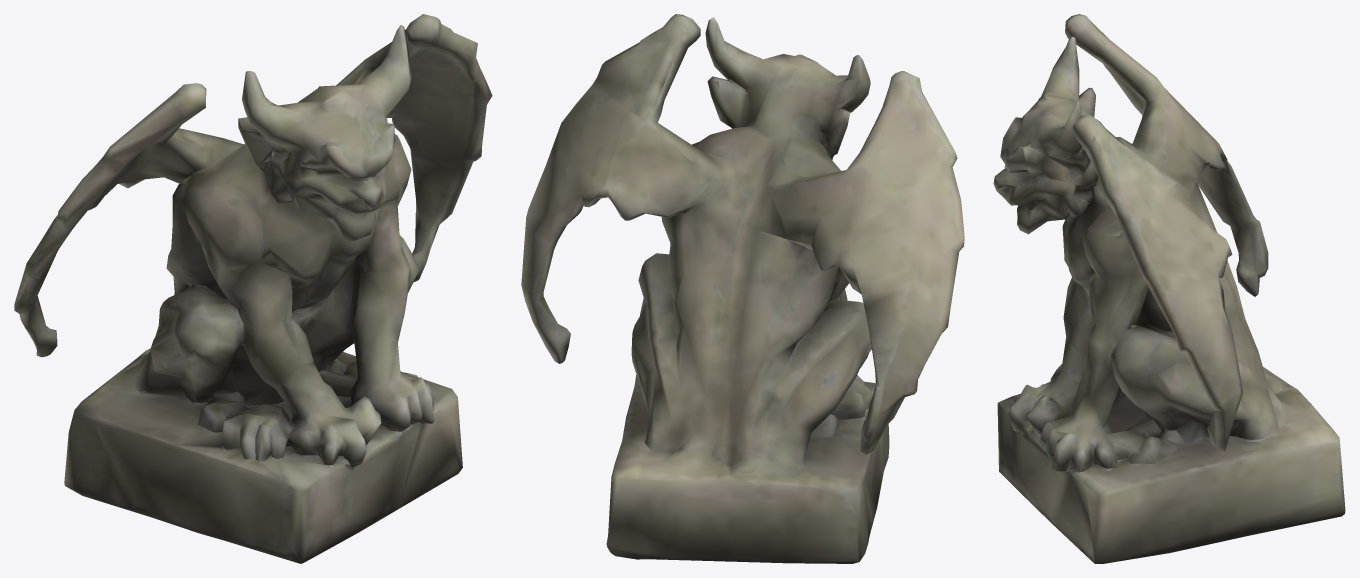
File: weathered-limestone-gargoyle-v002.glb
3 views of the same model, side by side, from view 1: azimuth 30°, elevation 25°; view 2: azimuth 150°, elevation 25°; view 3: azimuth 270°, elevation 25° (orthographic). The views are drawn at different scales.
Parts seen in each view (by area): view 1: weathered-limestone-gargoyle; view 2: weathered-limestone-gargoyle; view 3: weathered-limestone-gargoyle.
Part boxes in pixels (left/top/right/bottom): weathered-limestone-gargoyle: left=14, top=14, right=492, bottom=563; weathered-limestone-gargoyle: left=521, top=14, right=964, bottom=563; weathered-limestone-gargoyle: left=993, top=14, right=1345, bottom=563.
Size of the model in its own units: 0.7905 by 0.7899 by 0.5778.
1 material, 1 textured.
